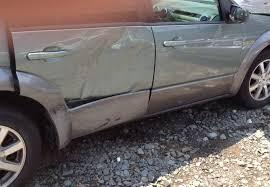boot-dent: (10, 17, 148, 128)
